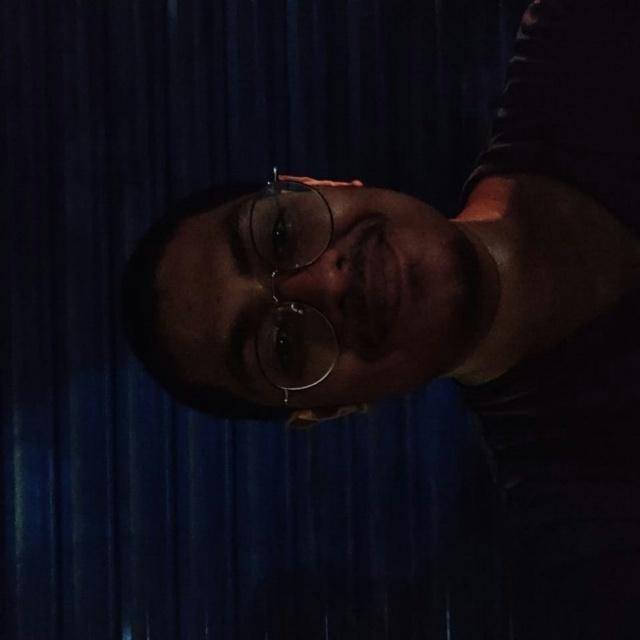Happy: (120, 93, 507, 481)
